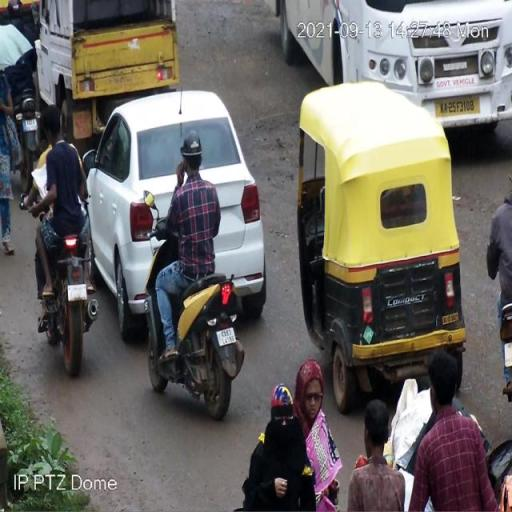using mobile: (176, 156, 190, 182)
